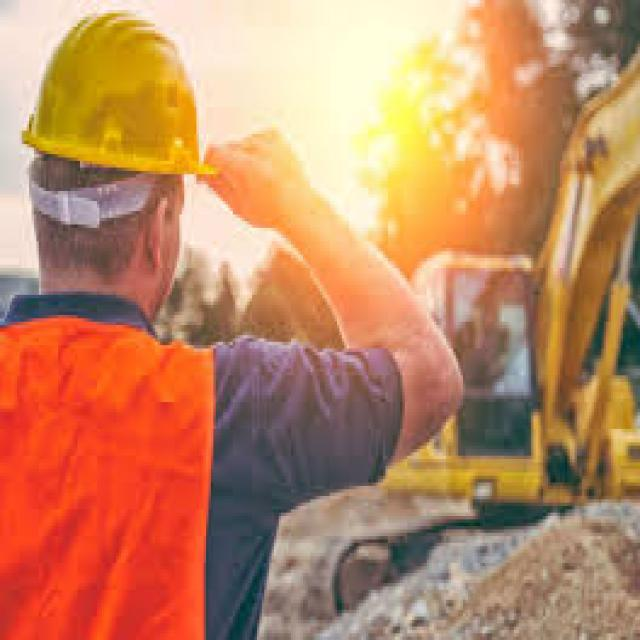Reflective-Jacket: (5, 305, 230, 633)
Safety-Helmet: (19, 6, 223, 198)
